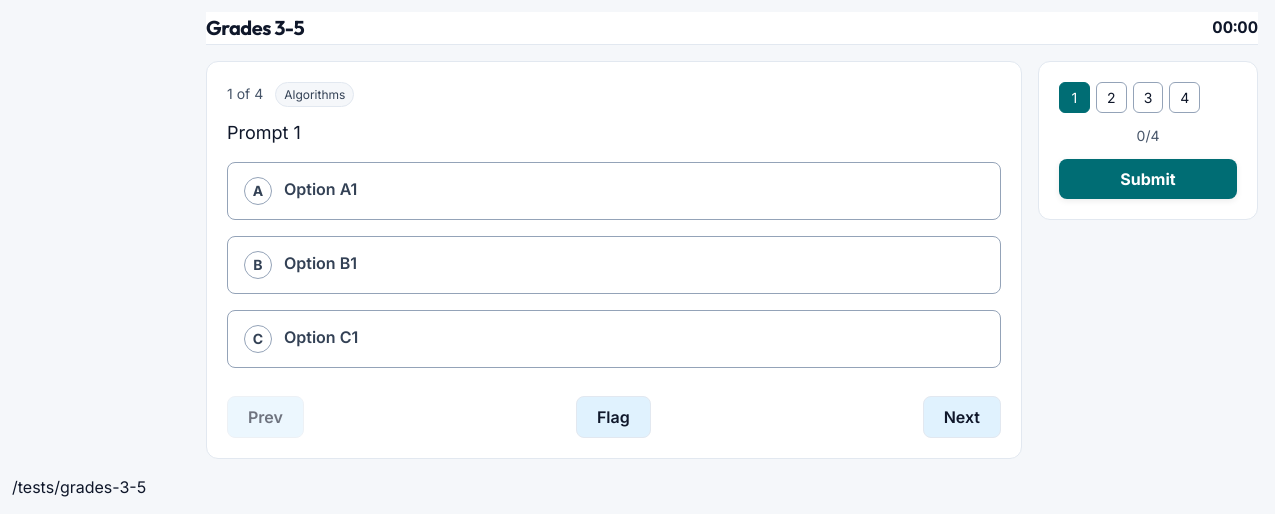
Test case: TakeTest › autosave › clears Not saved after a later quiet save succeeds
The width and height of the screenshot is (1275, 514).
Check: the text "Prompt 1" is shown, box [227,122,301,143]
What coordinates should you click on to do the following:
click the radio button labelled "A Option A1"
I would click on:
 (321, 189)
Its box is [227,162,1001,220].
Wait 15900 ms
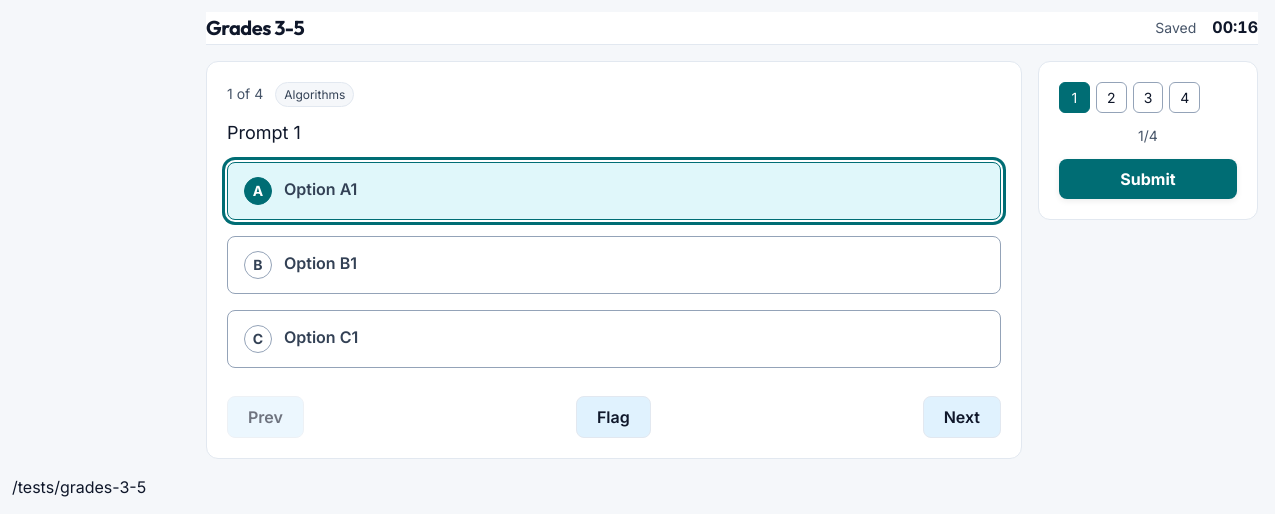
Check: the text "Not saved" is shown, box [1155,17,1196,39]
Check: the message reads "Saved", box [1155,19,1196,36]
